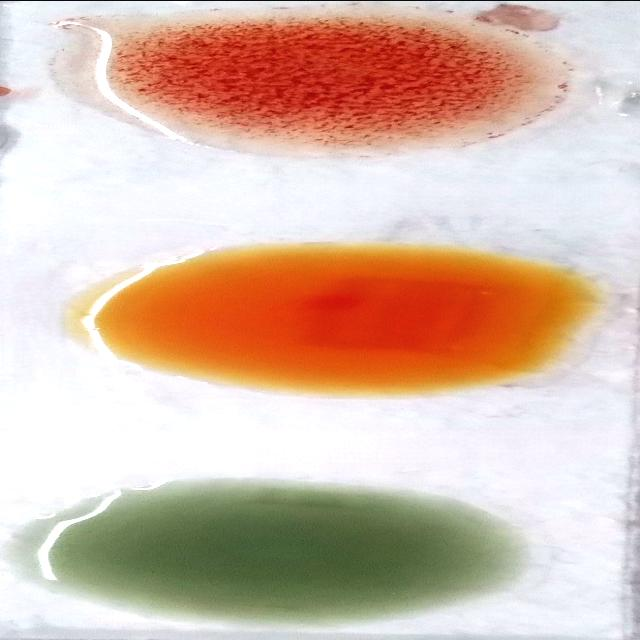D: (58, 8, 564, 154)
